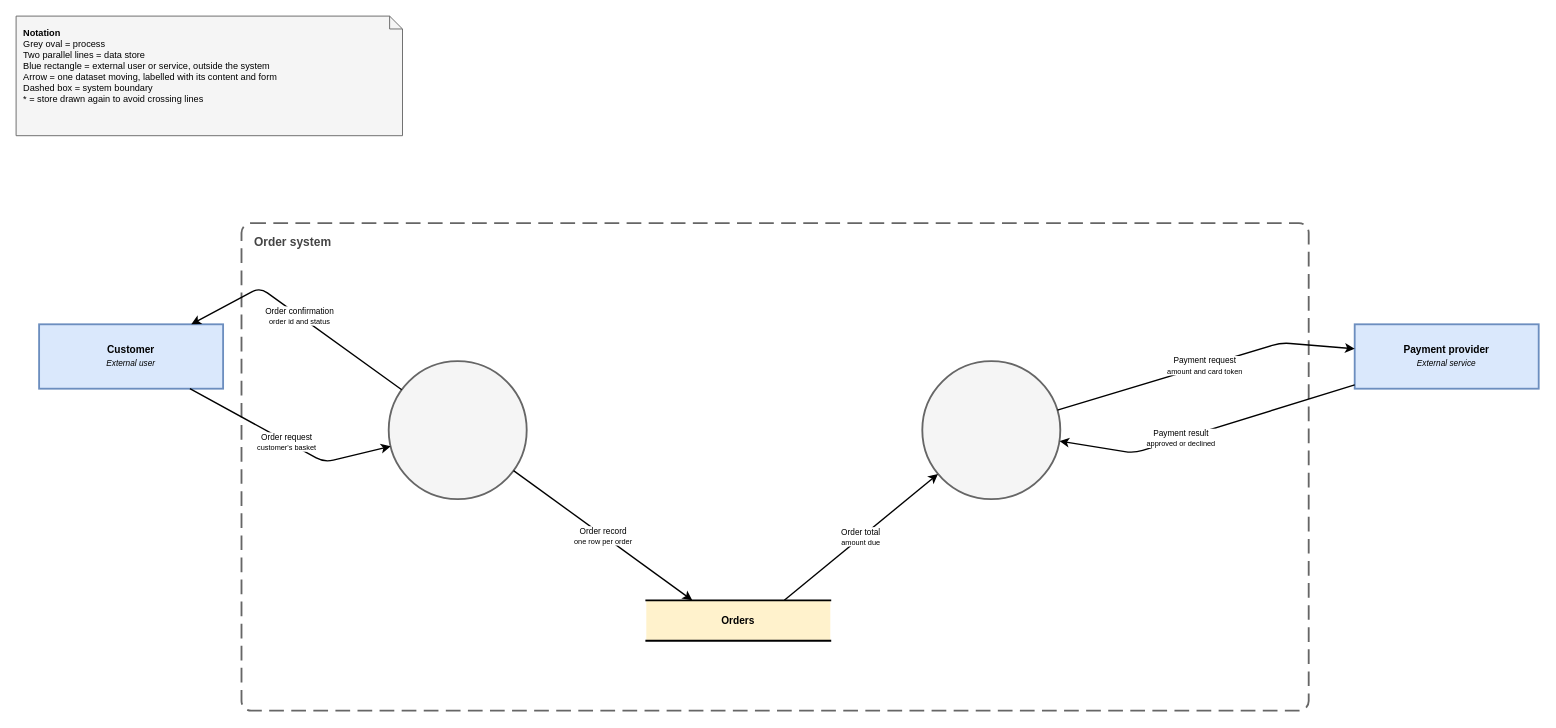
Image size: 1556x728. Some labels were removed from this diagram. Here are the shapes that lost their labels. From the top down, the centre of each, then its label:
At (457,430): "Take order".
At (991,430): "Take payment".
